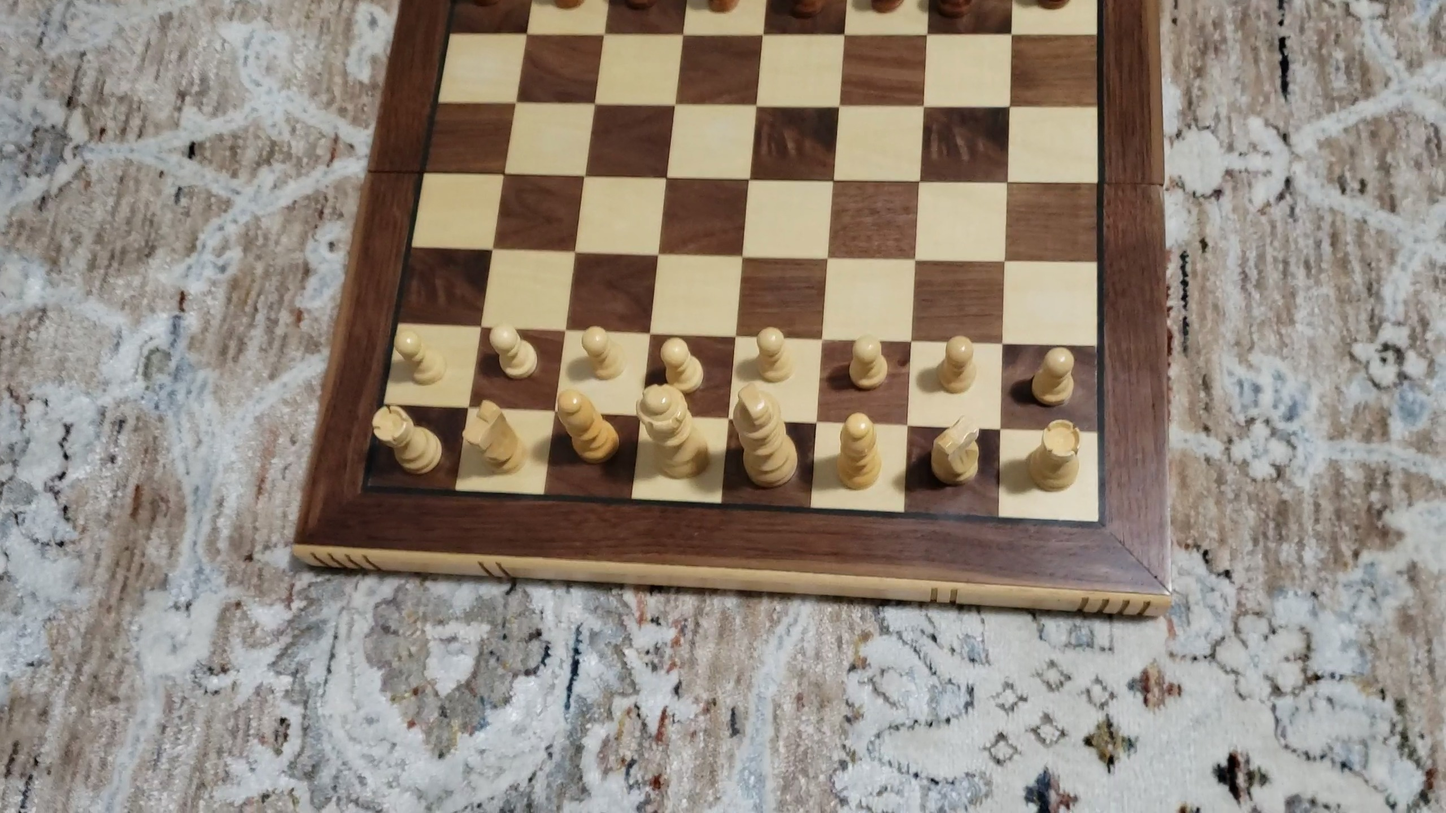white-bishop: (554, 388, 621, 467), (834, 409, 886, 495)
white-king: (730, 384, 800, 492)
white-knight: (465, 396, 525, 478), (925, 413, 983, 490)
white-pawn: (389, 325, 450, 388), (1026, 343, 1080, 411), (486, 321, 541, 383), (934, 331, 981, 397), (843, 332, 892, 394), (656, 334, 705, 396), (751, 322, 794, 387), (578, 322, 623, 382)
white-queen: (634, 383, 715, 484)
white-rook: (370, 403, 446, 478), (1024, 417, 1084, 496)
